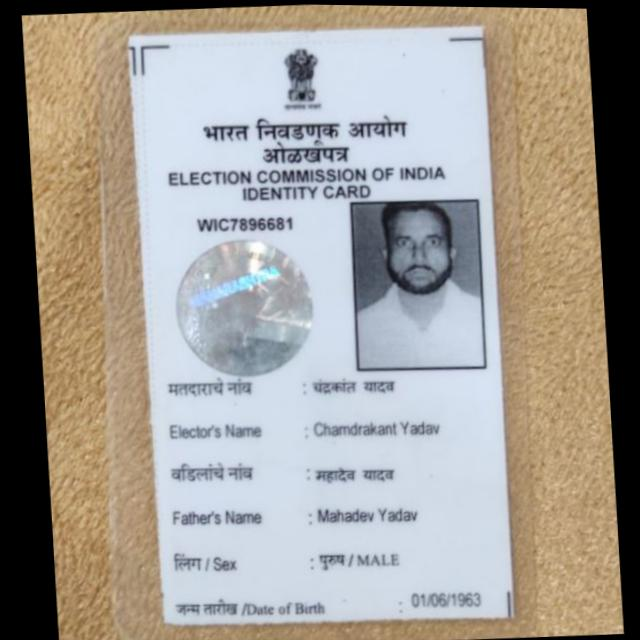voter_id: (102, 1, 529, 640)
